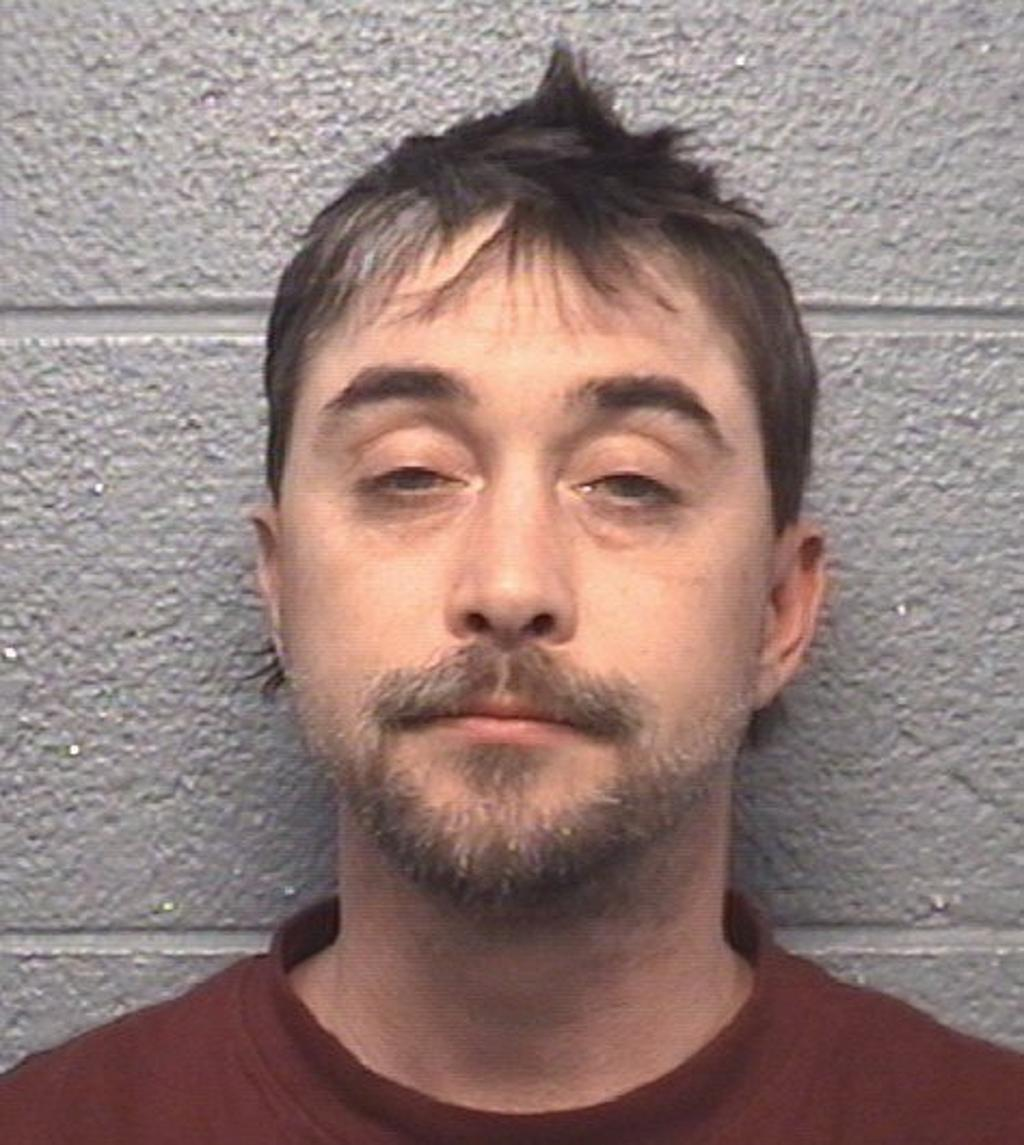face: (279, 208, 773, 883)
